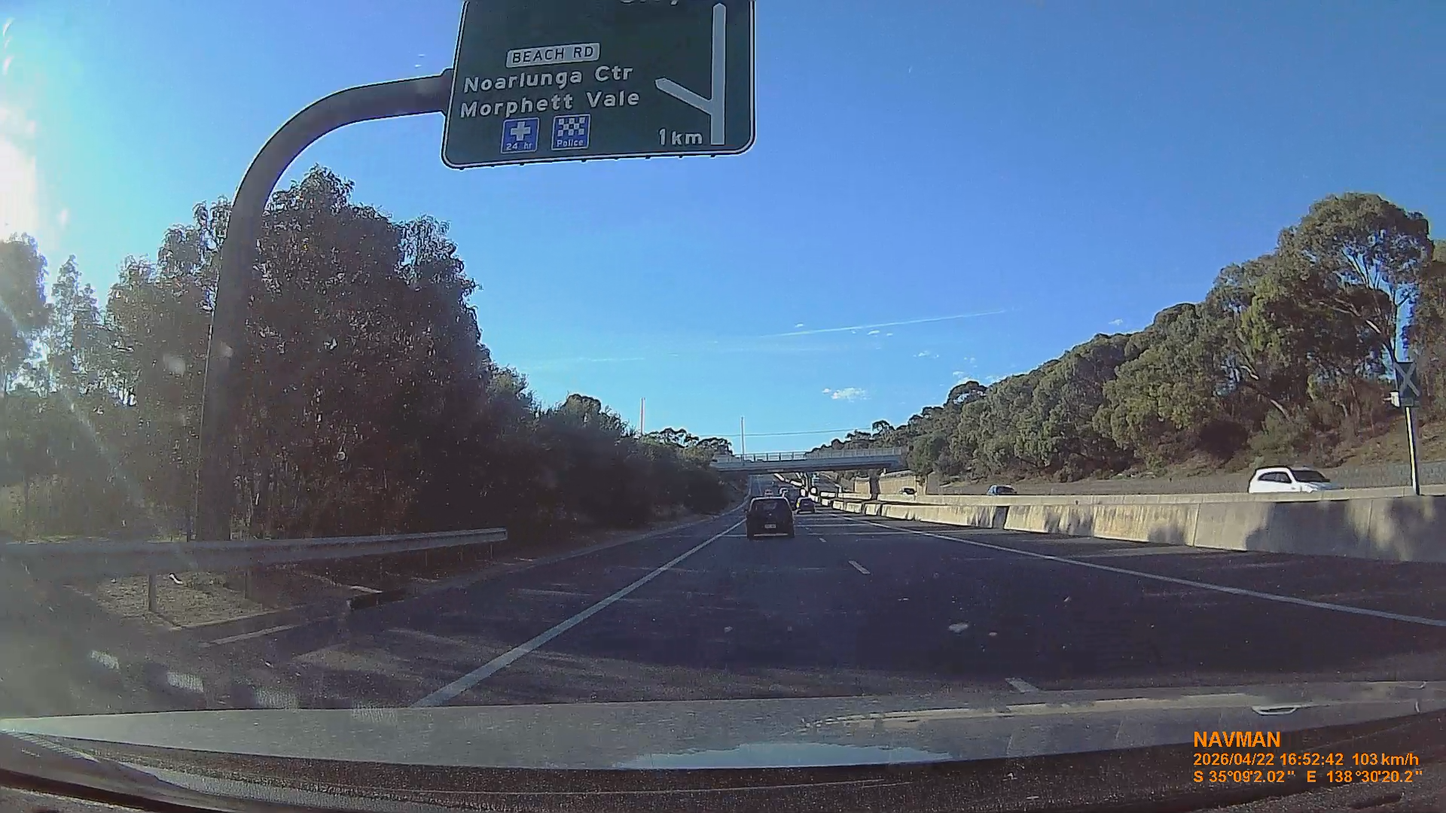road barriers: (5, 525, 499, 650), (826, 485, 1445, 559), (6, 526, 499, 594)
